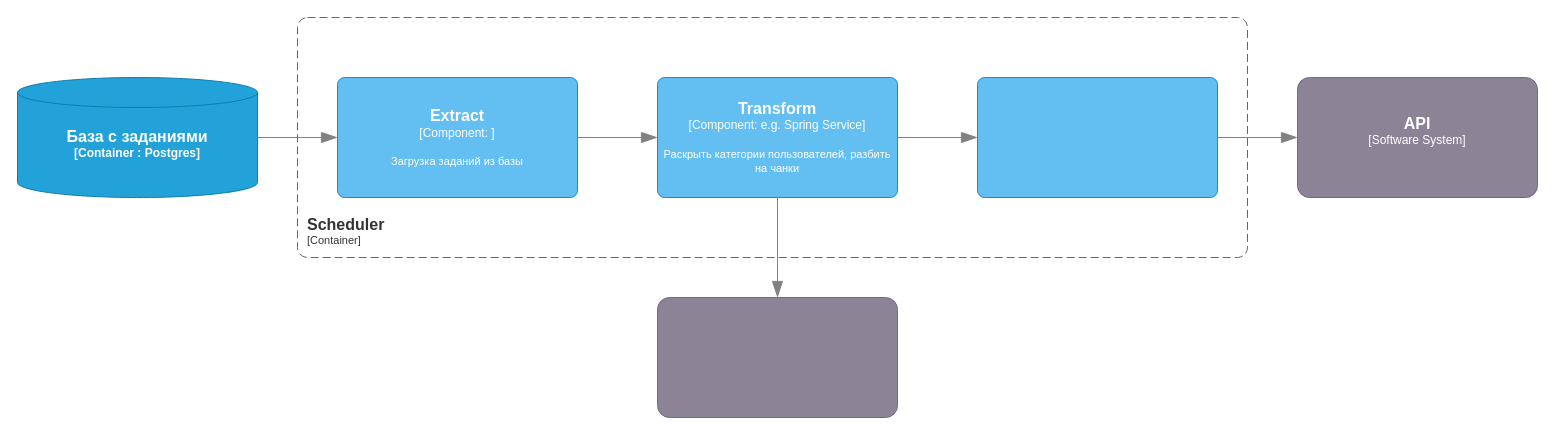
Some shapes in this 1555 by 435 pixel diagram are drawn without their labels. The centre of each missing label's shape, as x and y in pixels:
Upload [Component: ] Отправить задания дальше: the point at 1097,137
UserService [Software System] Description of external software system.: the point at 777,357
